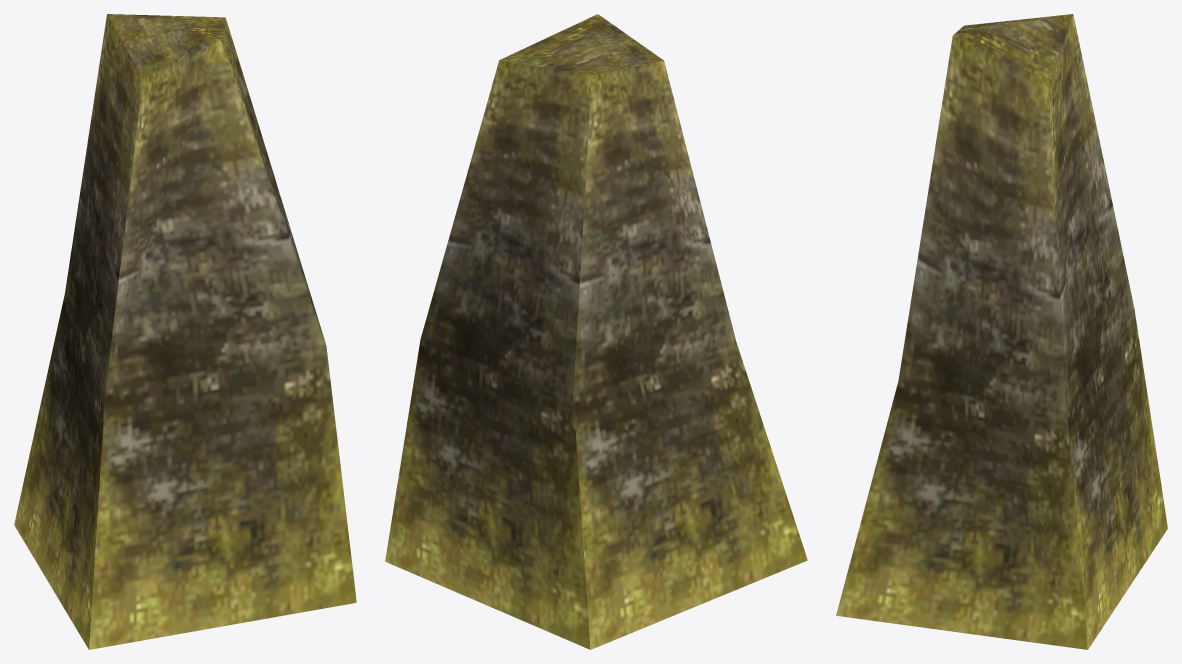
File: OZ_05_mi_rock01A.glb
The picture shows the model from 3 angles, left to right: view 1: azimuth 30°, elevation 25°; view 2: azimuth 150°, elevation 25°; view 3: azimuth 270°, elevation 25°; orthographic projection.
Parts seen in each view (by area): view 1: OM_05_mi_rock01A; view 2: OM_05_mi_rock01A; view 3: OM_05_mi_rock01A.
Boxes of the visible parts, x1,y1,x2,y2 form: OM_05_mi_rock01A: (14, 14, 356, 649); OM_05_mi_rock01A: (385, 14, 807, 649); OM_05_mi_rock01A: (836, 14, 1167, 649).
Bounding box in the file's own units: 1.14 × 1.83 × 1.02.
Materials: 1 (1 with a texture image).
